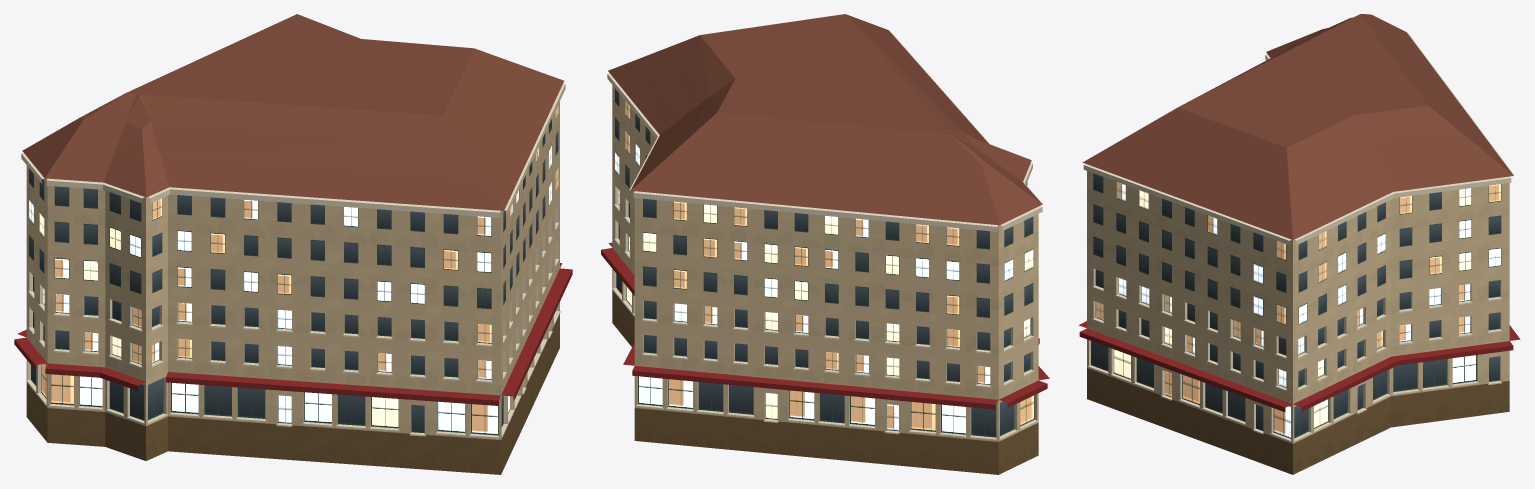
The model's file is albis_ost.glb.
The picture shows the model from 3 angles, left to right: view 1: azimuth 30°, elevation 25°; view 2: azimuth 150°, elevation 25°; view 3: azimuth 270°, elevation 25°; orthographic projection. The views are drawn at different scales.
Parts seen in each view (by area): view 1: albis_ost; view 2: albis_ost; view 3: albis_ost.
Part boxes in pixels (x1,y1,x2,y2): albis_ost: [14, 14, 572, 474]; albis_ost: [601, 14, 1049, 474]; albis_ost: [1079, 14, 1520, 474].
Size of the model in its own units: 45.16 by 27.91 by 38.79.
3 materials, 3 textured.
